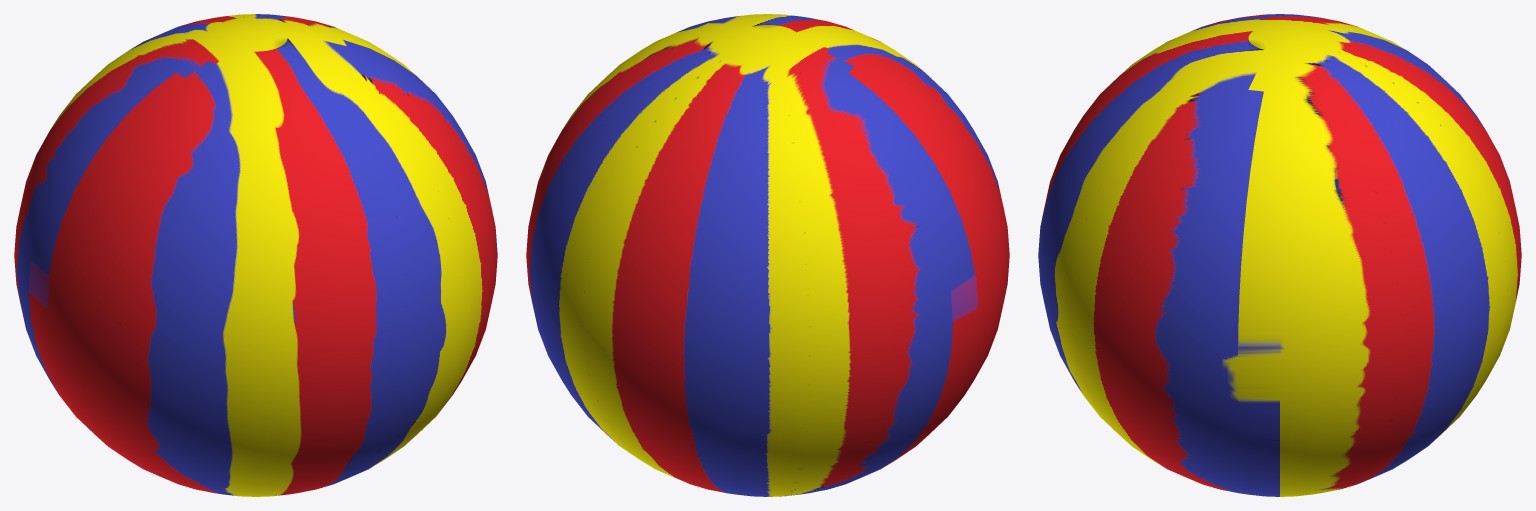
Rendered from gameBall01.obj.
The picture shows the model from 3 angles, left to right: view 1: azimuth 30°, elevation 25°; view 2: azimuth 150°, elevation 25°; view 3: azimuth 270°, elevation 25°; orthographic projection.
Visible parts, largest first — view 1: Sphere.001; view 2: Sphere.001; view 3: Sphere.001.
Part boxes in pixels (x1=…): Sphere.001: x1=14, y1=14, x2=497, y2=496; Sphere.001: x1=526, y1=14, x2=1009, y2=496; Sphere.001: x1=1038, y1=14, x2=1521, y2=496.
Size of the model in its own units: 11.27 by 11.27 by 11.27.
